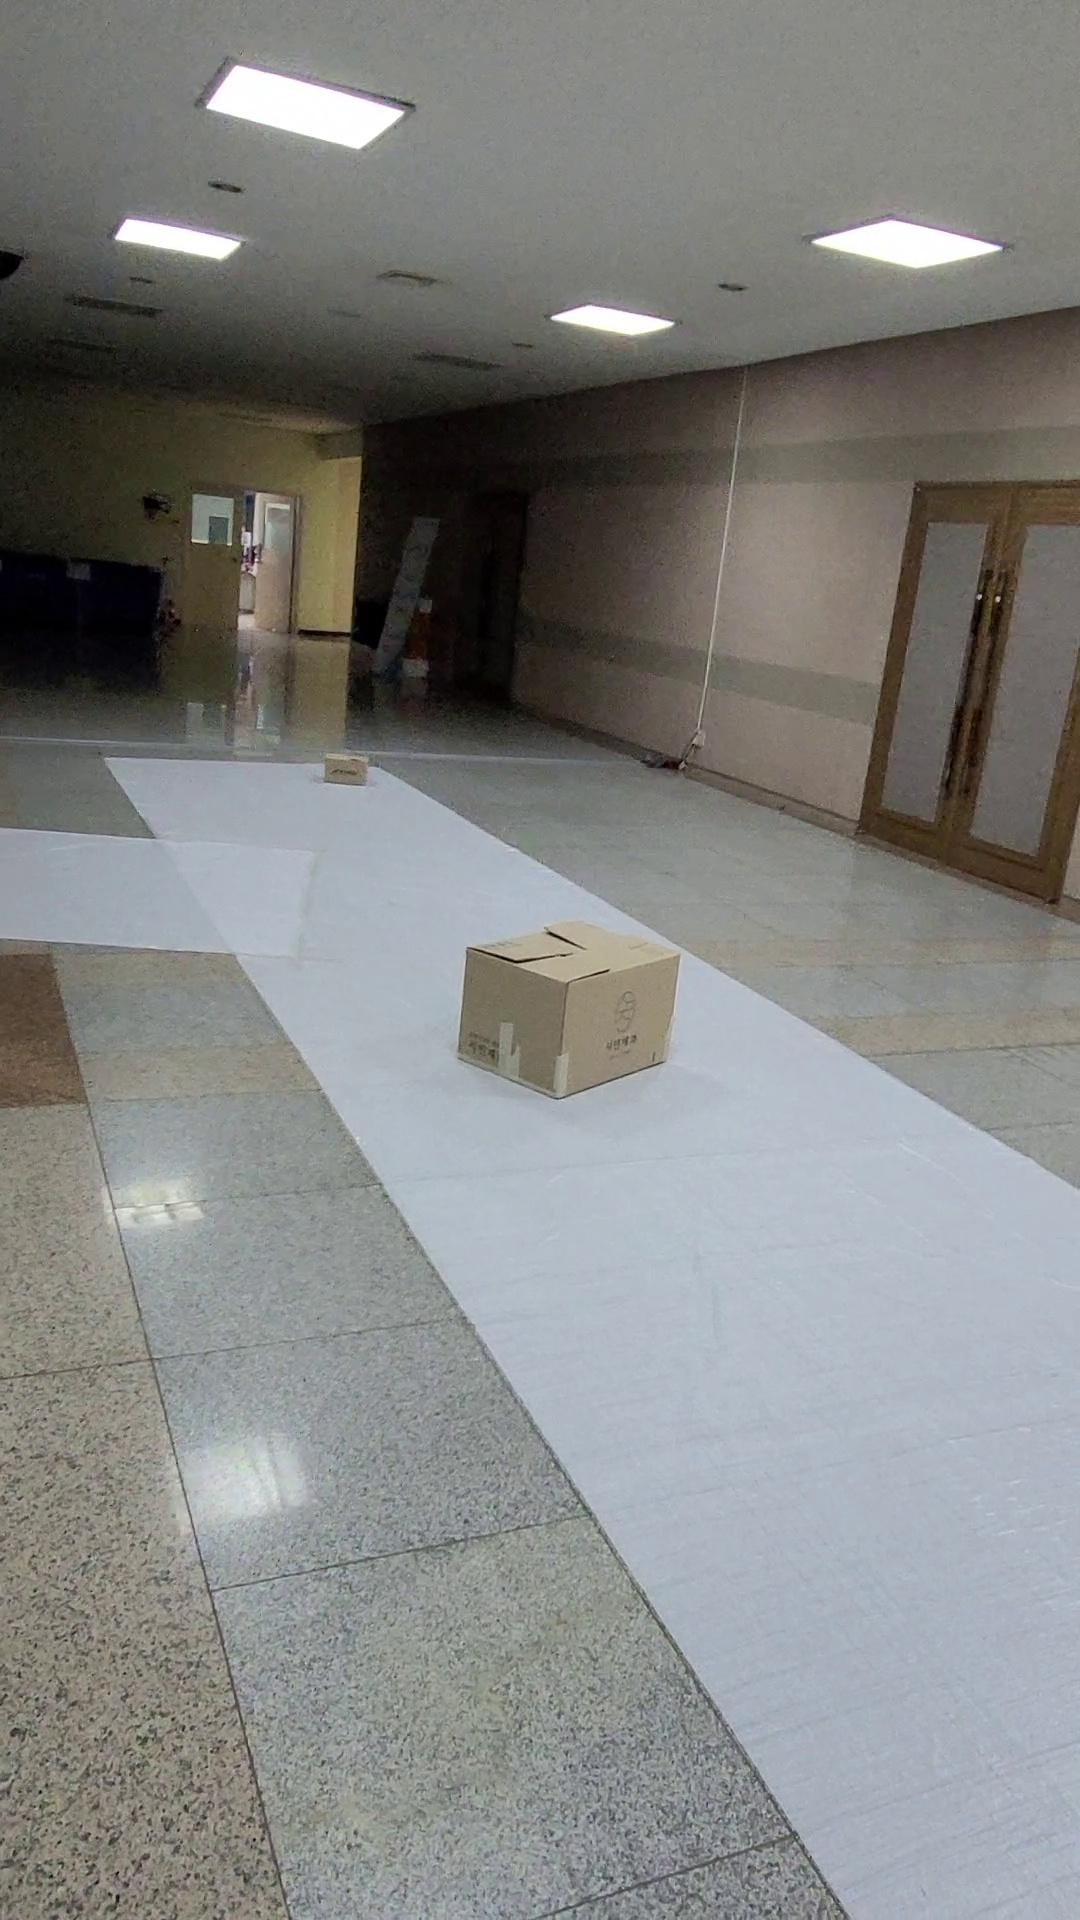Box: (443, 913, 704, 1124), (316, 745, 390, 807)
